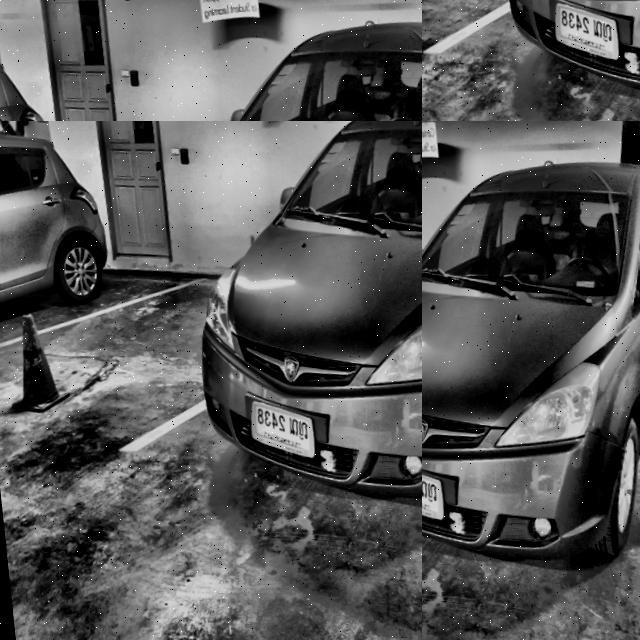license-plate: (422, 459, 440, 529)
